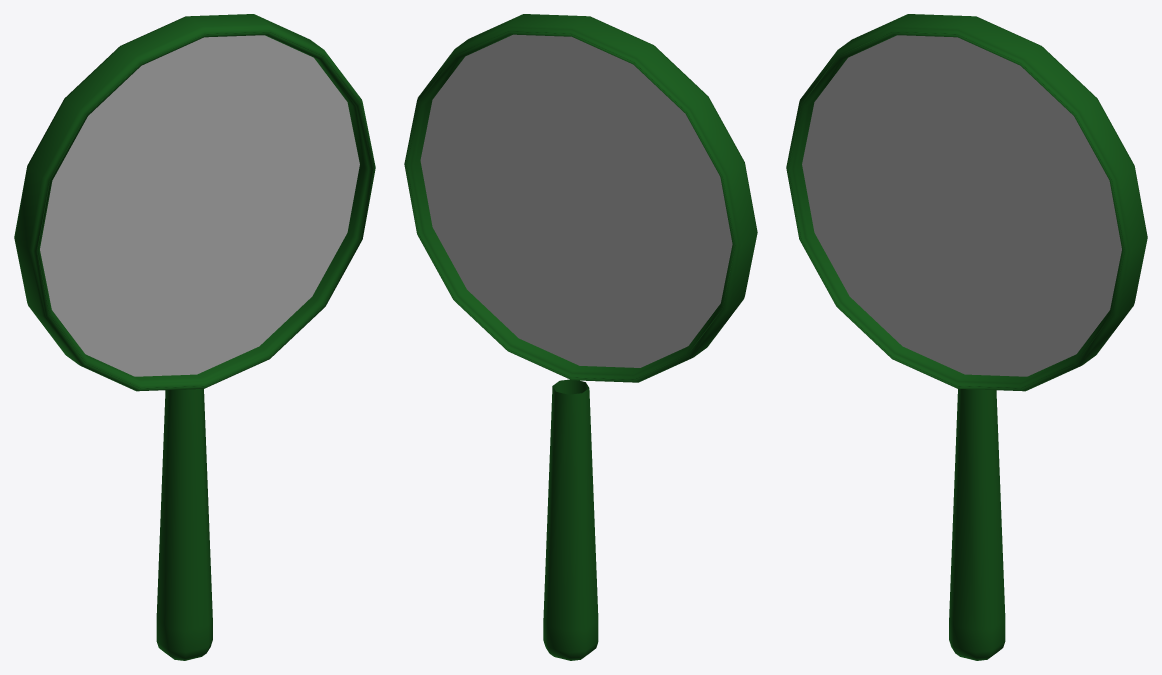
The model's file is Lens.fbx.
The picture shows the model from 3 angles, left to right: view 1: azimuth 30°, elevation 25°; view 2: azimuth 150°, elevation 25°; view 3: azimuth 330°, elevation 25°; orthographic projection. The views are drawn at different scales.
Visible parts, largest first — view 1: Lens; view 2: Lens; view 3: Lens.
Boxes of the visible parts, left/top/right/bottom form: Lens: left=14, top=14, right=375, bottom=660; Lens: left=404, top=14, right=757, bottom=660; Lens: left=786, top=14, right=1147, bottom=660.
Bounding box in the file's own units: 1.3 × 2.29 × 0.2146.
